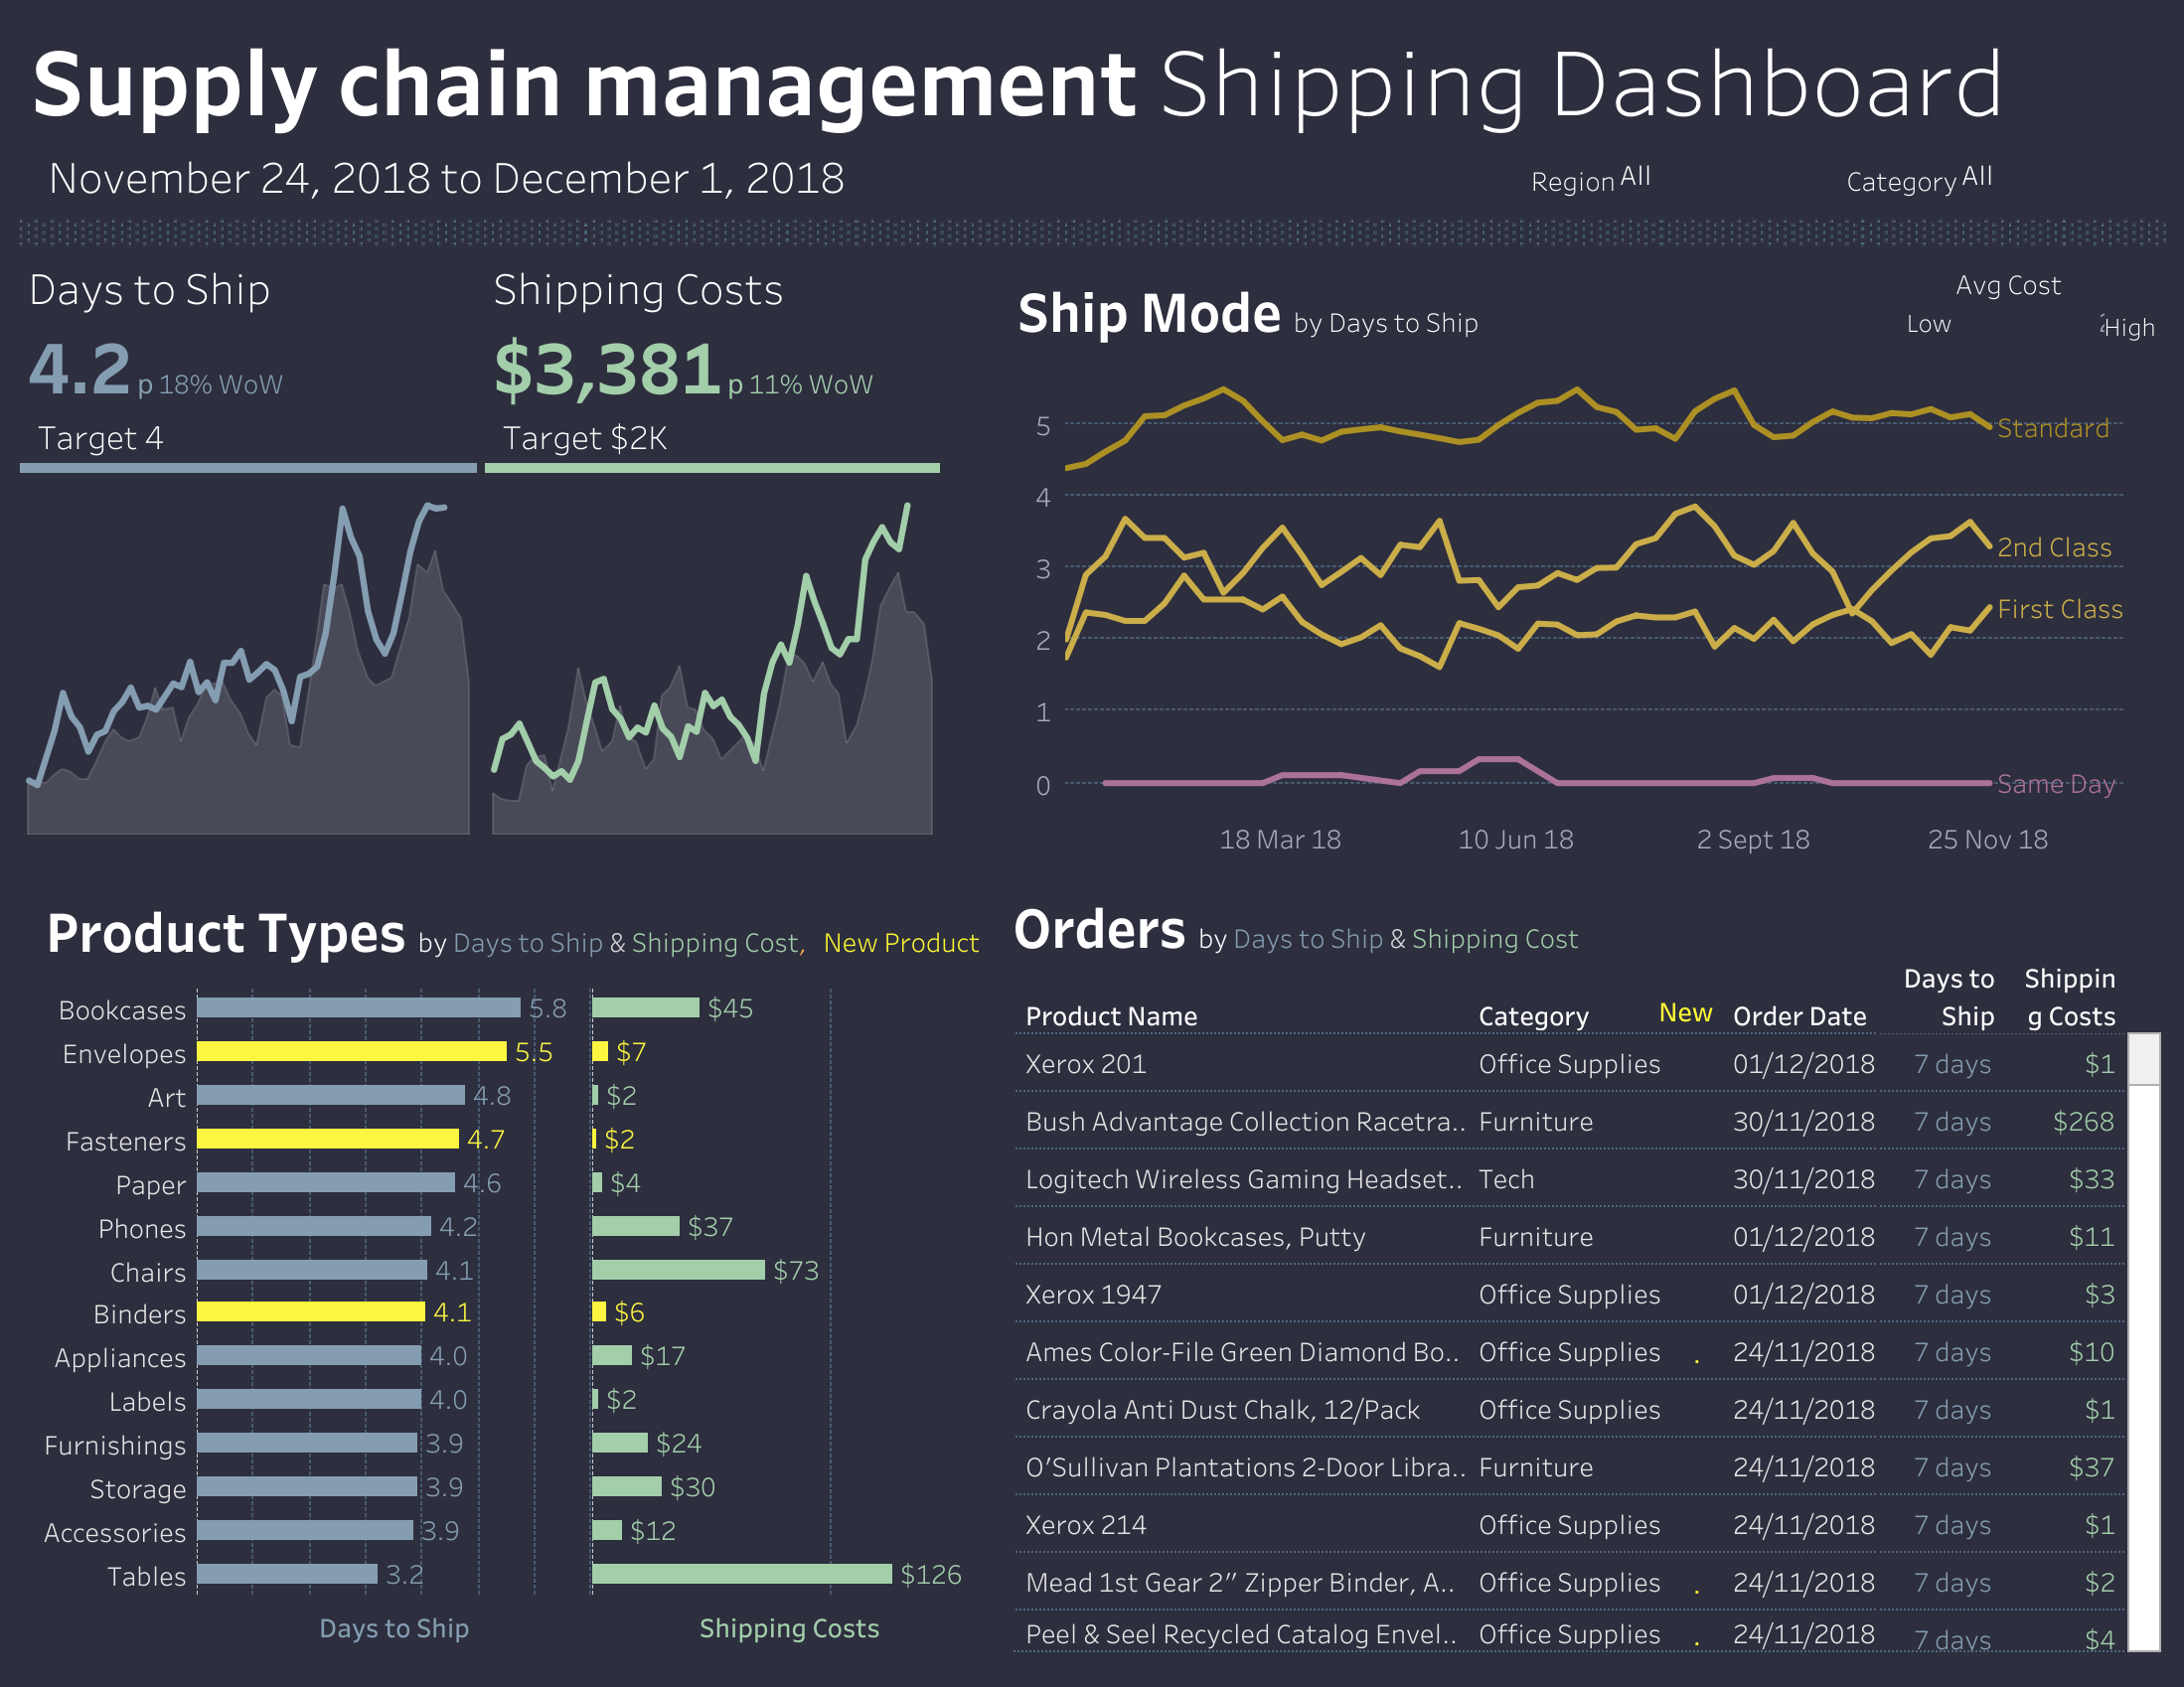

This screenshot's page, from the dashboard's own definition file:
{"tool":"tableau","page":{"name":"2 Top Down Dashboard","canvas":[1100,850],"ordinal":1},"visuals":[{"type":"text","box":[8,8,1084,119.2]},{"type":"worksheet","title":"Date","mark":"Automatic","box":[20,73,584,36]},{"type":"filter","title":"Days to Ship Time2","param":"[Sample - Superstore].[none:Region:nk]","box":[741,78,164,24]},{"type":"filter","title":"Days to Ship Time2","param":"[Sample - Superstore].[none:Category:nk]","box":[913,78,180,24]},{"type":"image","param":"Image/Border5.png","box":[8,110,1083,16]},{"type":"blank","box":[8,124,1086,9]},{"type":"worksheet","title":"Ship Mode","mark":"Automatic","rows":["2017 Discount (copy)"],"cols":["Order Date"],"box":[475,127.2,617,312.8]},{"type":"worksheet","title":"Discount KPI","mark":"Automatic","cols":["Calculation_122230518285139968"],"box":[10,129.2,230,108.8]},{"type":"worksheet","title":"Shipping Cost KPI2","mark":"Automatic","cols":["Calculation_122230518285139968"],"box":[244,129.2,229,108.8]},{"type":"legend","title":"Ship Mode","param":"[Sample - Superstore].[avg:Calculation_631700234606243840:qk]","box":[984,131,75,42]},{"type":"text","box":[933,149,52,26]},{"type":"text","box":[1056,153,39,21]},{"type":"worksheet","title":"Days to Ship Time2","mark":"Automatic","rows":["2017 Costs (copy)","2017 Discount (copy)"],"cols":["Order Date"],"box":[8,240,234,200]},{"type":"worksheet","title":"Shipping Cost Time2","mark":"Automatic","rows":["2017 Costs (copy 2)","2018 Costs (copy)"],"cols":["Order Date"],"box":[242,240,233,200]},{"type":"worksheet","title":"Product Sub Category","mark":"Automatic","rows":["Sub-Category"],"cols":["Calculation_713539076749619200","Costs (copy)"],"box":[8,440,497,402]},{"type":"worksheet","title":"Product Order Details","mark":"Text","rows":["Order ID","Product Name","Category","Calculation_400679646864777216","Order Date"],"box":[505,440,587,402]},{"type":"text","box":[507,444,577,44]},{"type":"text","box":[832,496,36,22]}]}

Visuals, with their boxes in screenshot pixels (x1, y1, x2, y2), scaled from the page's 1100x850 canvas onto the 2184x1687 screenshot:
text: {"x1": 16, "y1": 16, "x2": 2168, "y2": 252}
"Date" worksheet: {"x1": 40, "y1": 145, "x2": 1199, "y2": 217}
"Days to Ship Time2" filter: {"x1": 1472, "y1": 155, "x2": 1796, "y2": 203}
"Days to Ship Time2" filter: {"x1": 1812, "y1": 155, "x2": 2170, "y2": 203}
image: {"x1": 16, "y1": 219, "x2": 2166, "y2": 250}
blank: {"x1": 16, "y1": 246, "x2": 2172, "y2": 264}
"Ship Mode" worksheet: {"x1": 943, "y1": 252, "x2": 2168, "y2": 873}
"Discount KPI" worksheet: {"x1": 20, "y1": 256, "x2": 477, "y2": 472}
"Shipping Cost KPI2" worksheet: {"x1": 485, "y1": 256, "x2": 939, "y2": 472}
"Ship Mode" legend: {"x1": 1953, "y1": 260, "x2": 2103, "y2": 344}
text: {"x1": 1852, "y1": 296, "x2": 1955, "y2": 348}
text: {"x1": 2097, "y1": 304, "x2": 2174, "y2": 346}
"Days to Ship Time2" worksheet: {"x1": 16, "y1": 476, "x2": 481, "y2": 873}
"Shipping Cost Time2" worksheet: {"x1": 481, "y1": 476, "x2": 943, "y2": 873}
"Product Sub Category" worksheet: {"x1": 16, "y1": 873, "x2": 1003, "y2": 1671}
"Product Order Details" worksheet (Text marks): {"x1": 1003, "y1": 873, "x2": 2168, "y2": 1671}
text: {"x1": 1007, "y1": 881, "x2": 2152, "y2": 969}
text: {"x1": 1651, "y1": 985, "x2": 1723, "y2": 1028}
